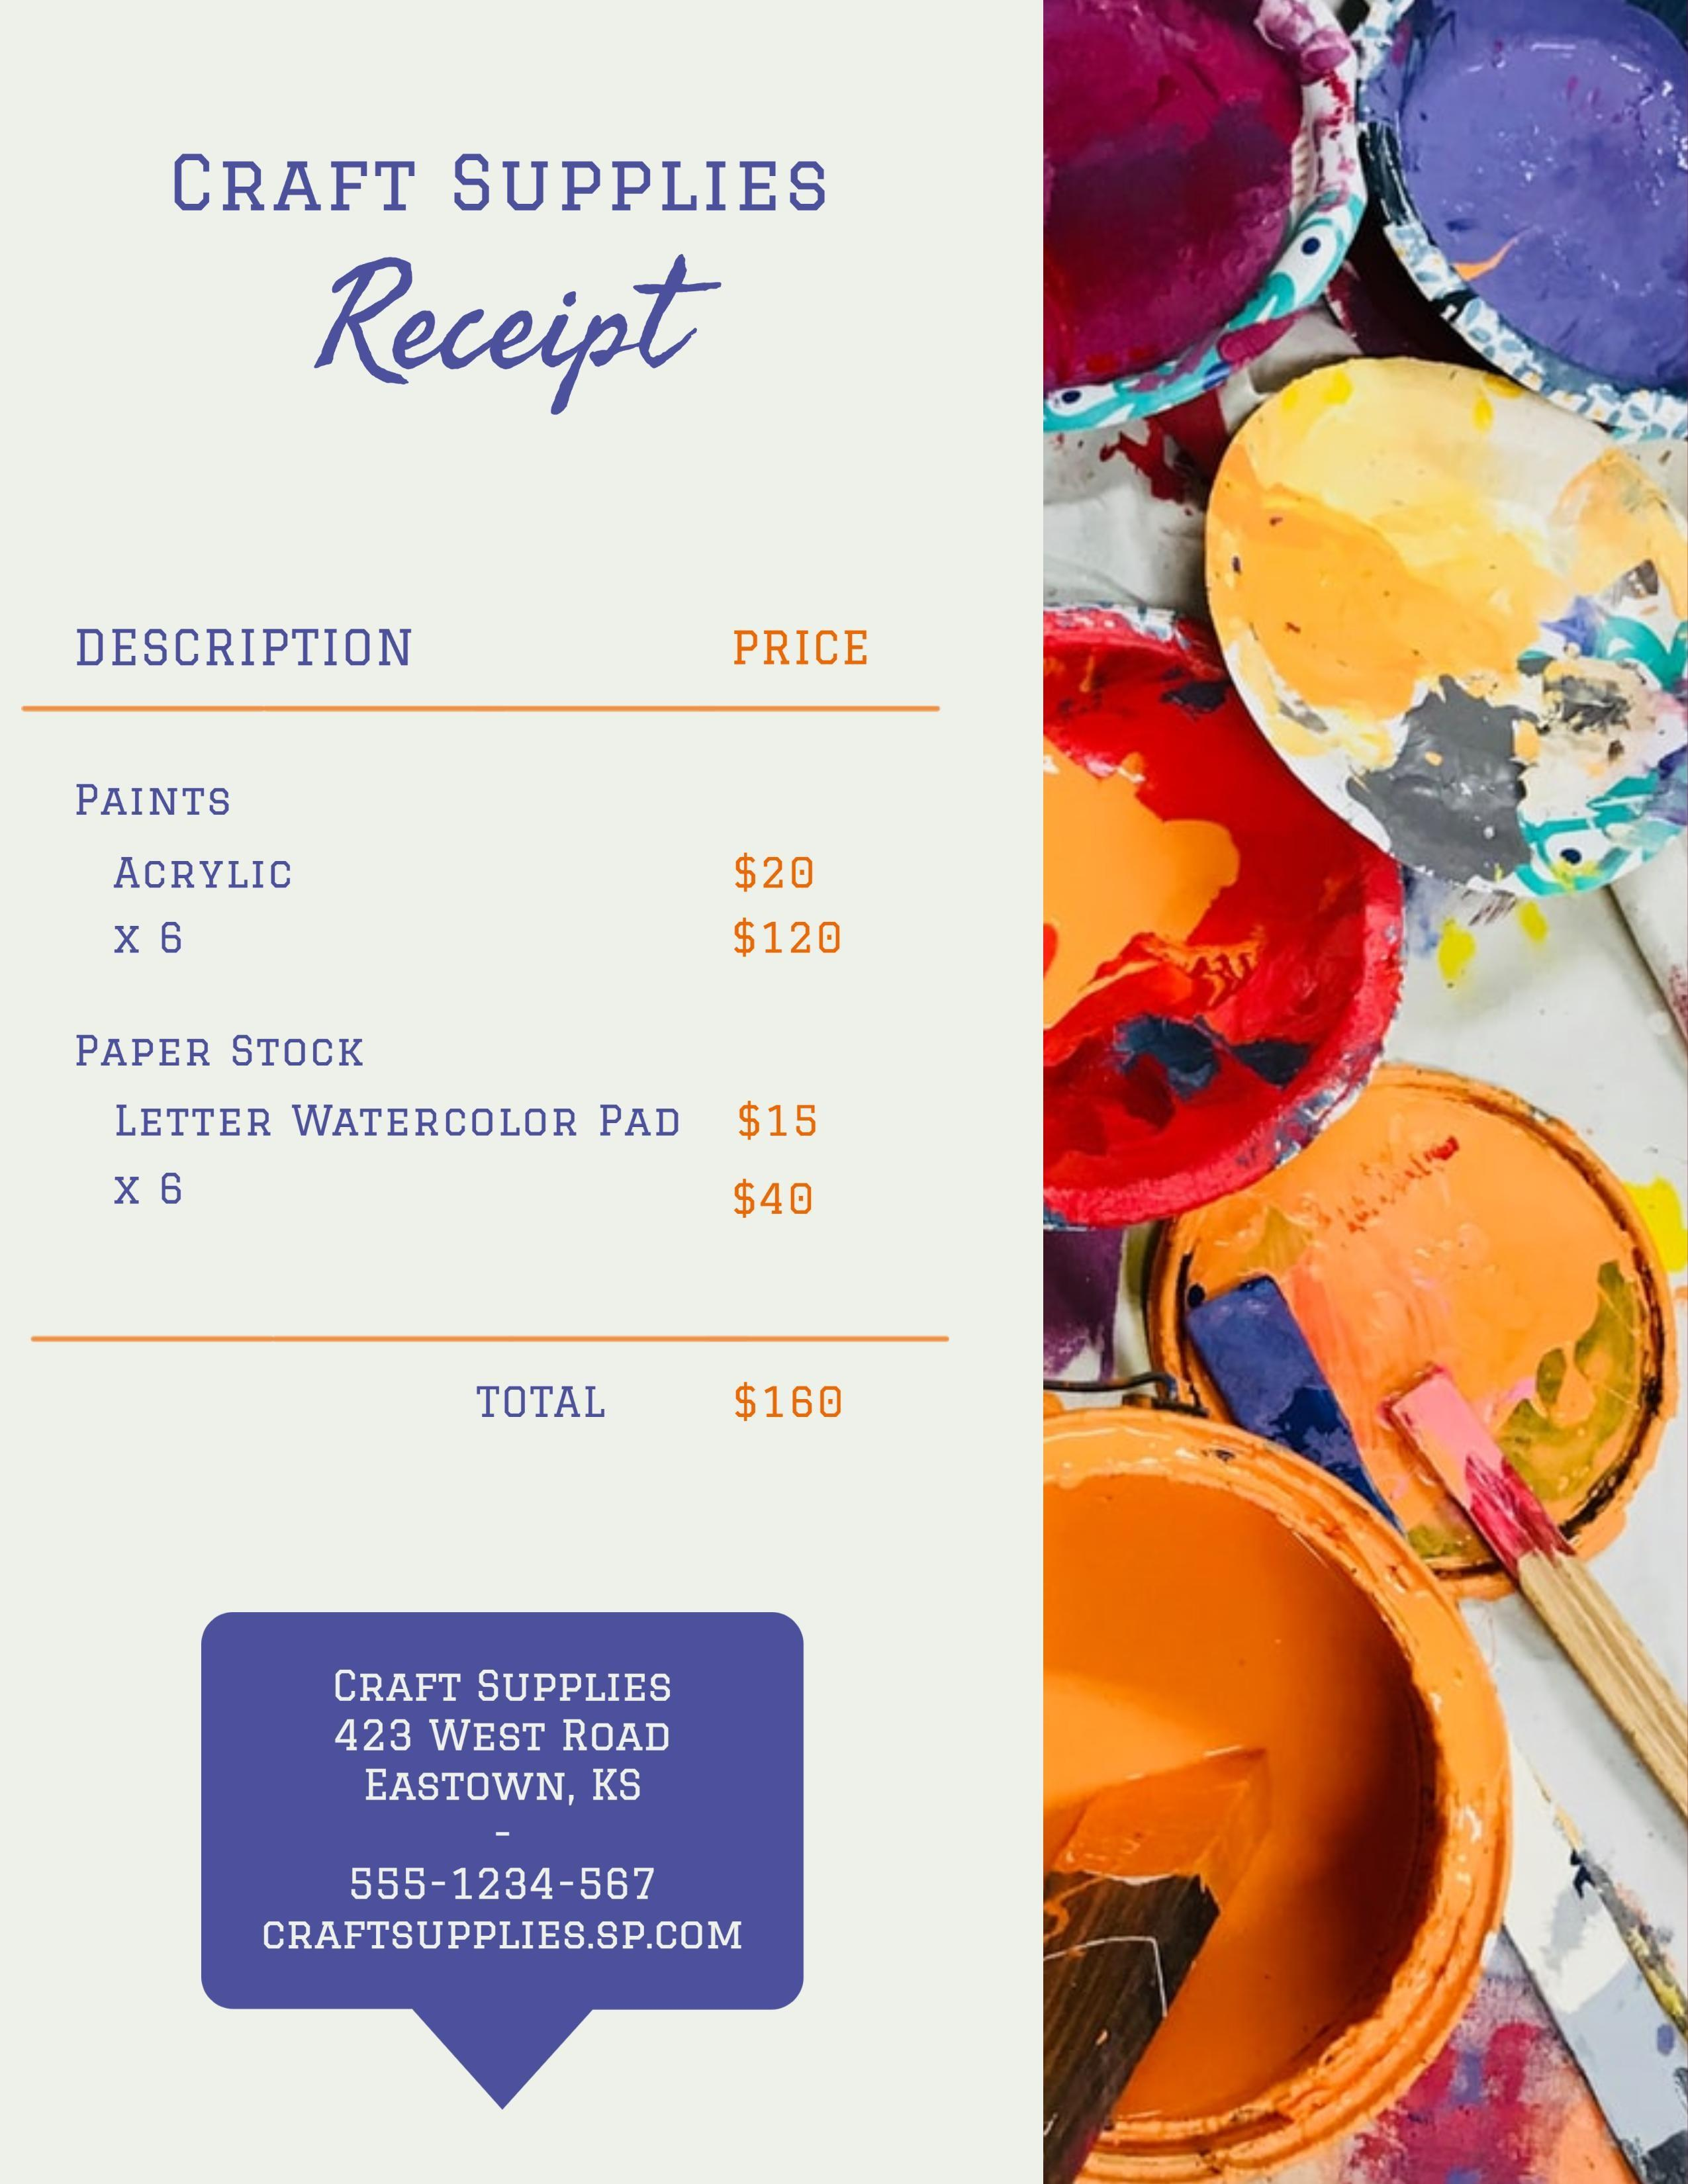ROI: (46, 619, 885, 1250), (254, 1652, 748, 1964), (470, 1363, 858, 1447)
